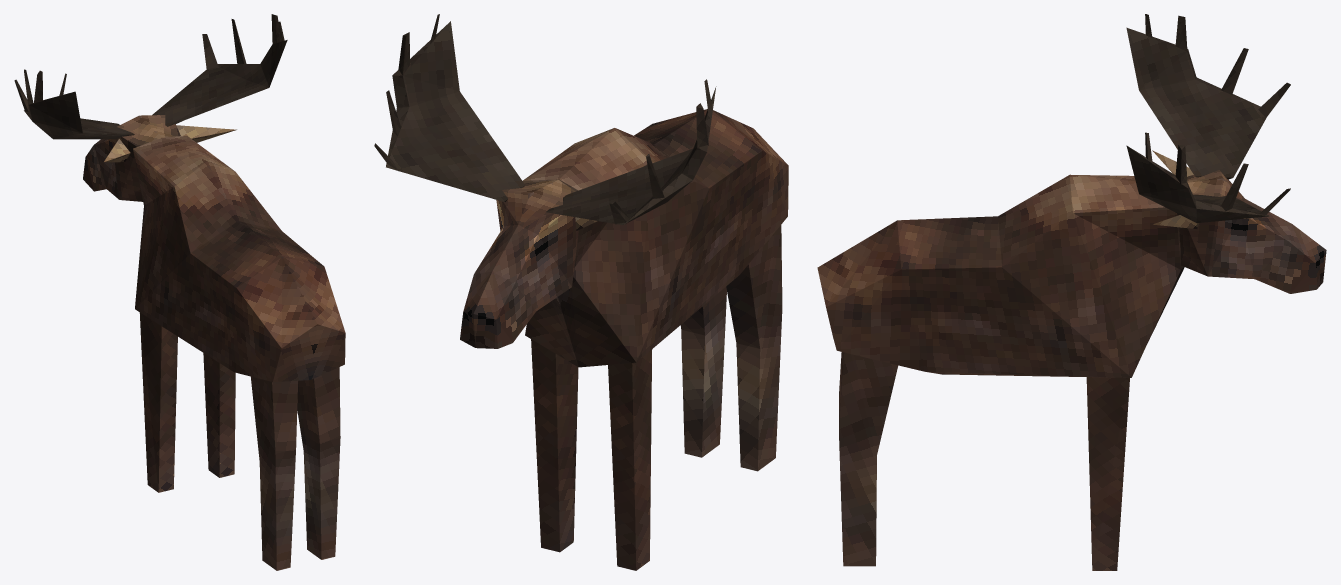
The model's file is Moose_Moose.glb.
3 renders of one model, left to right at view 1: azimuth 30°, elevation 25°; view 2: azimuth 150°, elevation 25°; view 3: azimuth 270°, elevation 25°, orthographic. The views are drawn at different scales.
Parts seen in each view (by area): view 1: Body, Head, Leg3, Leg4, Leg1, Leg2; view 2: Body, Head, Leg3, Leg1, Leg2, Leg4; view 3: Body, Head, Leg4, Leg2.
Boxes of the visible parts, x1,y1,x2,y2 form: Body: (133, 135, 345, 381); Head: (14, 14, 287, 201); Leg3: (251, 376, 297, 570); Leg4: (297, 367, 340, 559); Leg1: (139, 312, 177, 492); Leg2: (203, 353, 235, 477); Body: (523, 109, 788, 367); Head: (374, 14, 716, 348); Leg3: (726, 225, 782, 471); Leg1: (608, 349, 652, 570); Leg2: (531, 339, 578, 552); Leg4: (680, 287, 726, 457); Body: (817, 174, 1184, 377); Head: (1126, 14, 1326, 293); Leg4: (839, 352, 898, 566); Leg2: (1086, 377, 1129, 570).
Bounding box in the file's own units: 1.4 × 2.23 × 2.16.
1 material, 1 textured.
